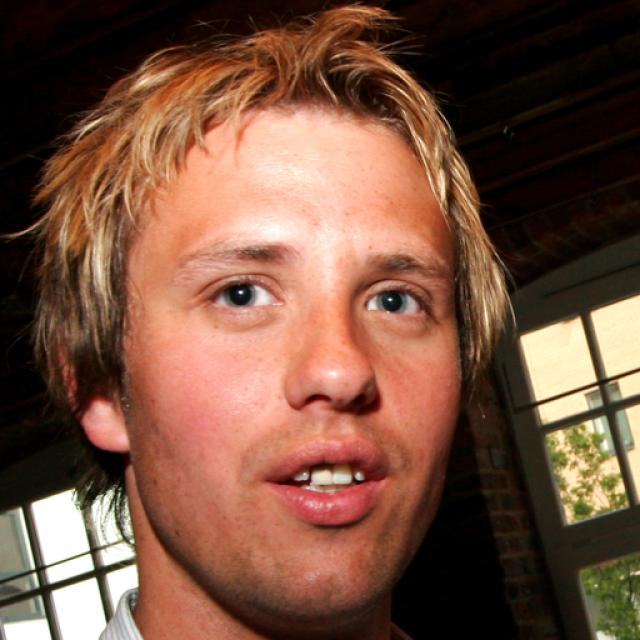Pigmentation: (380, 197, 457, 260), (337, 308, 364, 353)
